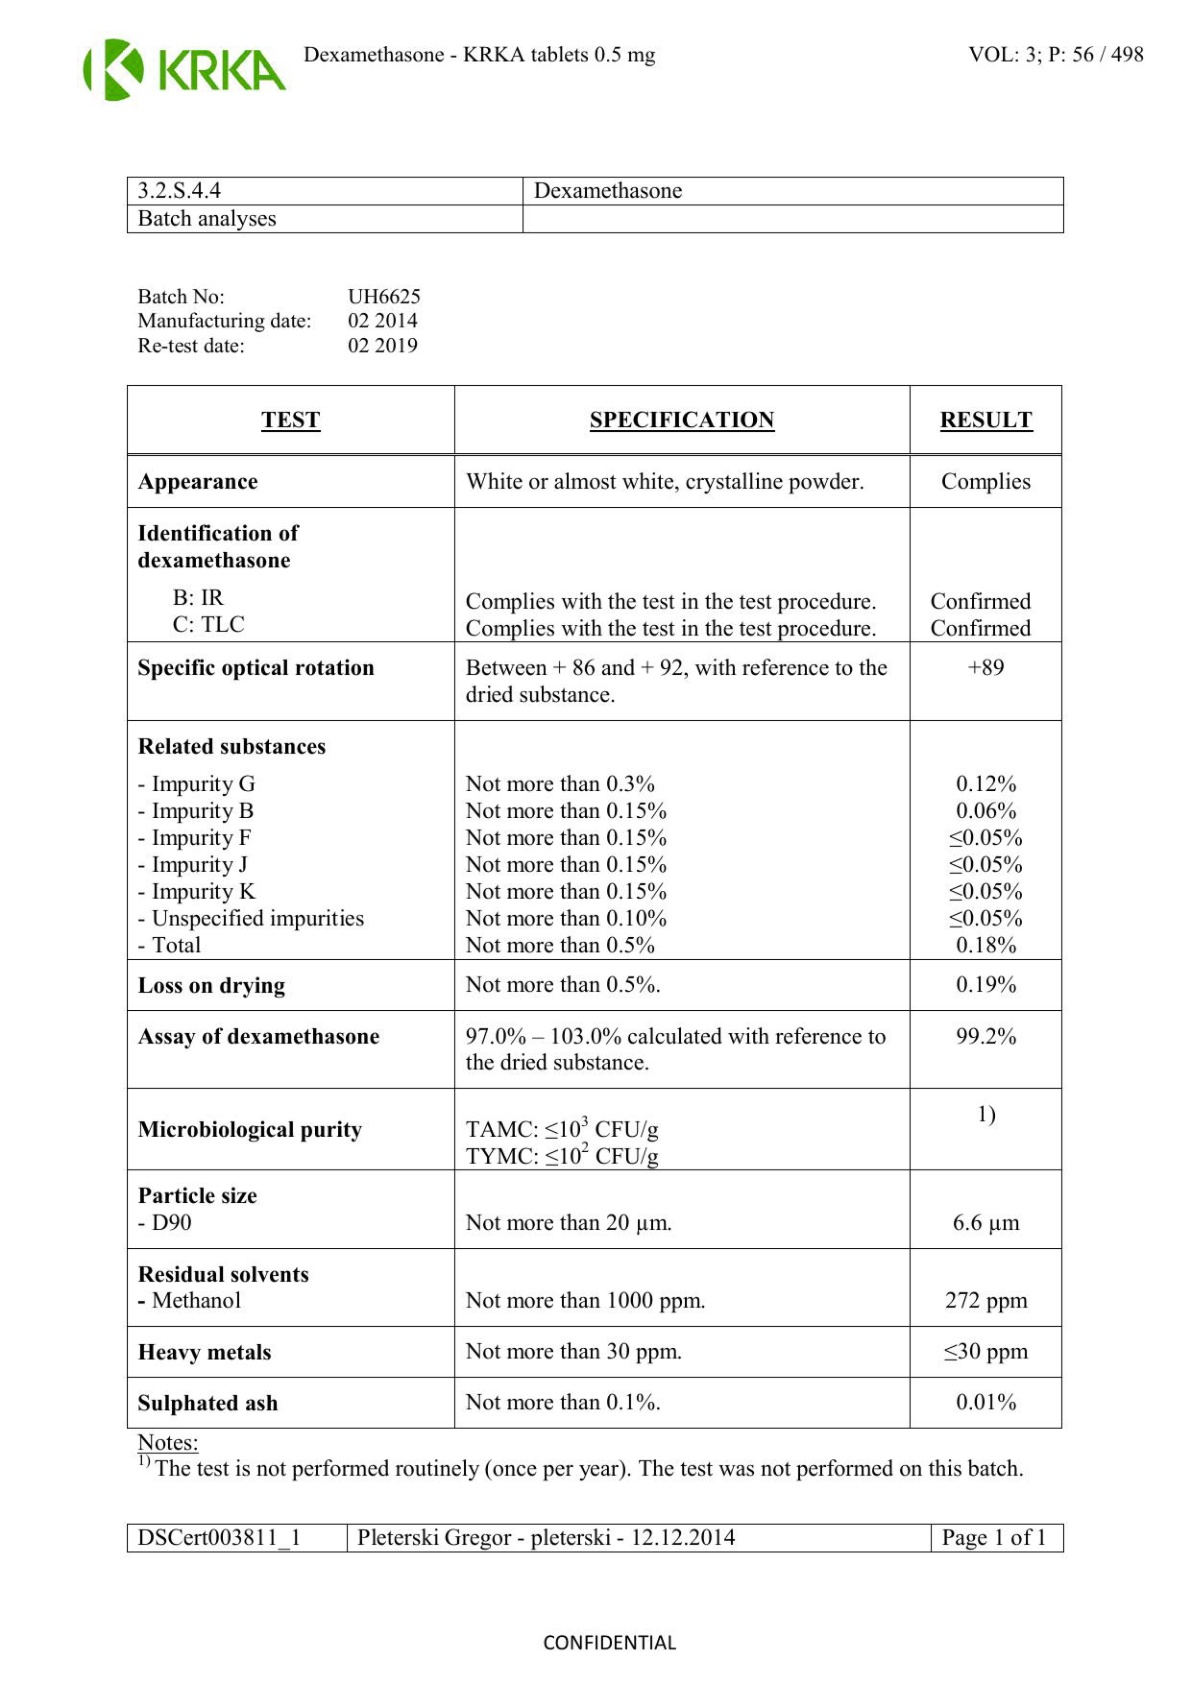full_lined: (126, 383, 1063, 1429), (126, 175, 1066, 233), (126, 1522, 1066, 1552)
